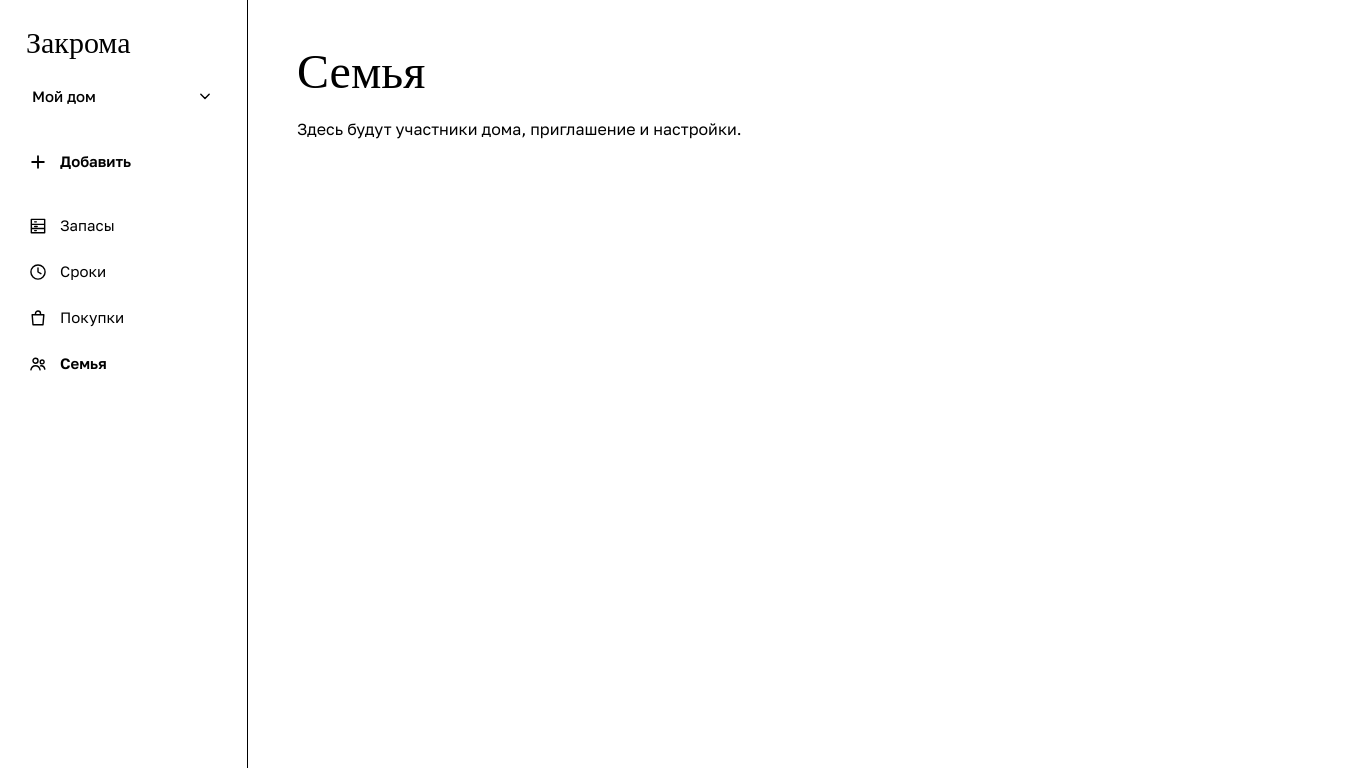
app shell (AC-3) › opens «Запасы» and marks it as current
The width and height of the screenshot is (1366, 768).
Step 1. Click the link "Запасы" → (71, 226), box [28,216,115,236]
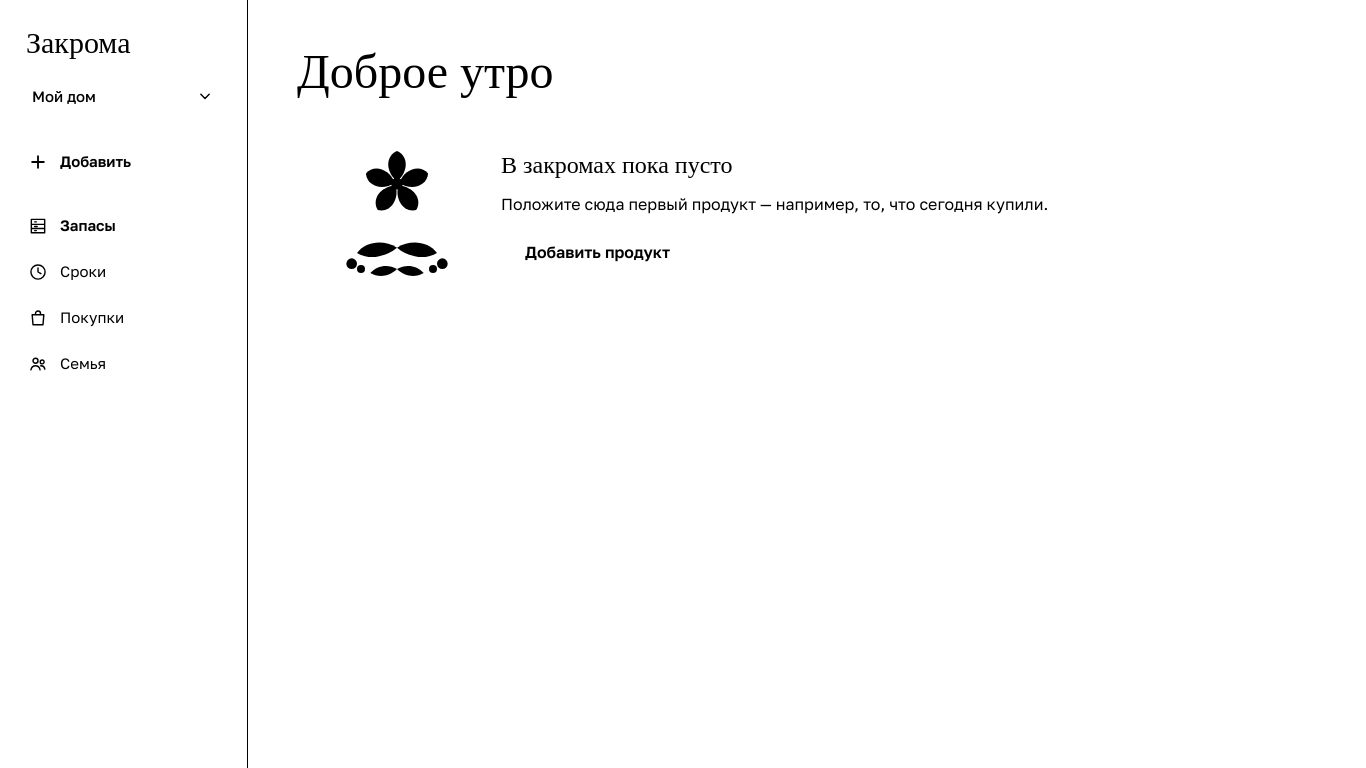
Expected: the heading "Доброе утро" is shown, [297,45,554,98]
